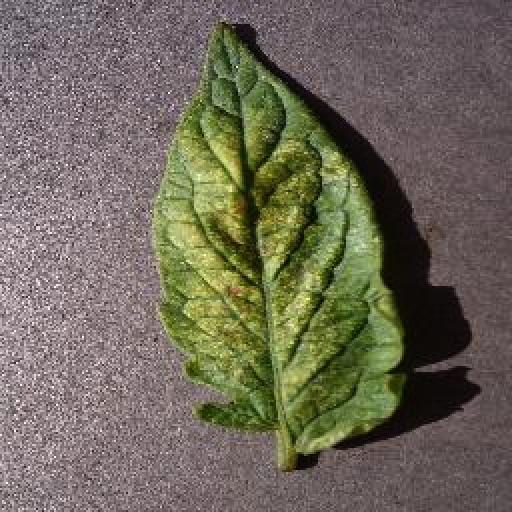disease_tomato: (154, 22, 404, 454)
